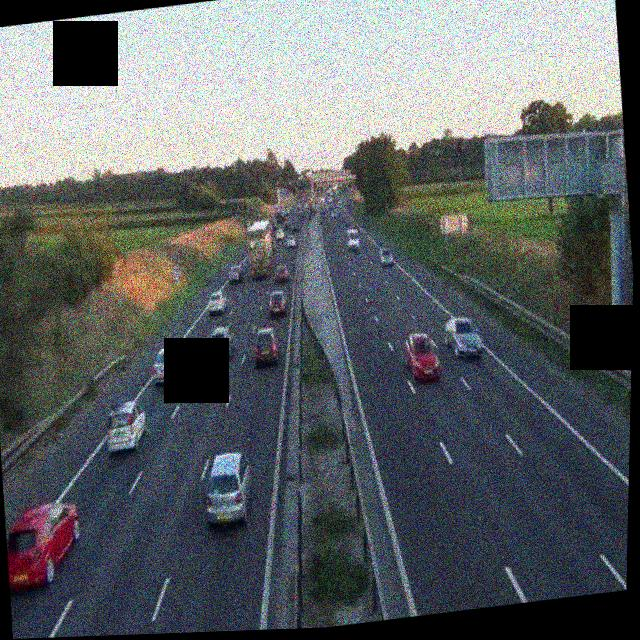bus: (245, 216, 276, 273)
car: (2, 499, 84, 590), (200, 450, 256, 528), (102, 397, 149, 454), (401, 329, 442, 383), (443, 313, 484, 361), (150, 344, 189, 384), (207, 323, 237, 361), (252, 327, 281, 366), (266, 288, 288, 317), (205, 289, 228, 316), (344, 225, 360, 251), (225, 263, 243, 283), (378, 246, 395, 267), (271, 263, 287, 283), (285, 234, 296, 247)
